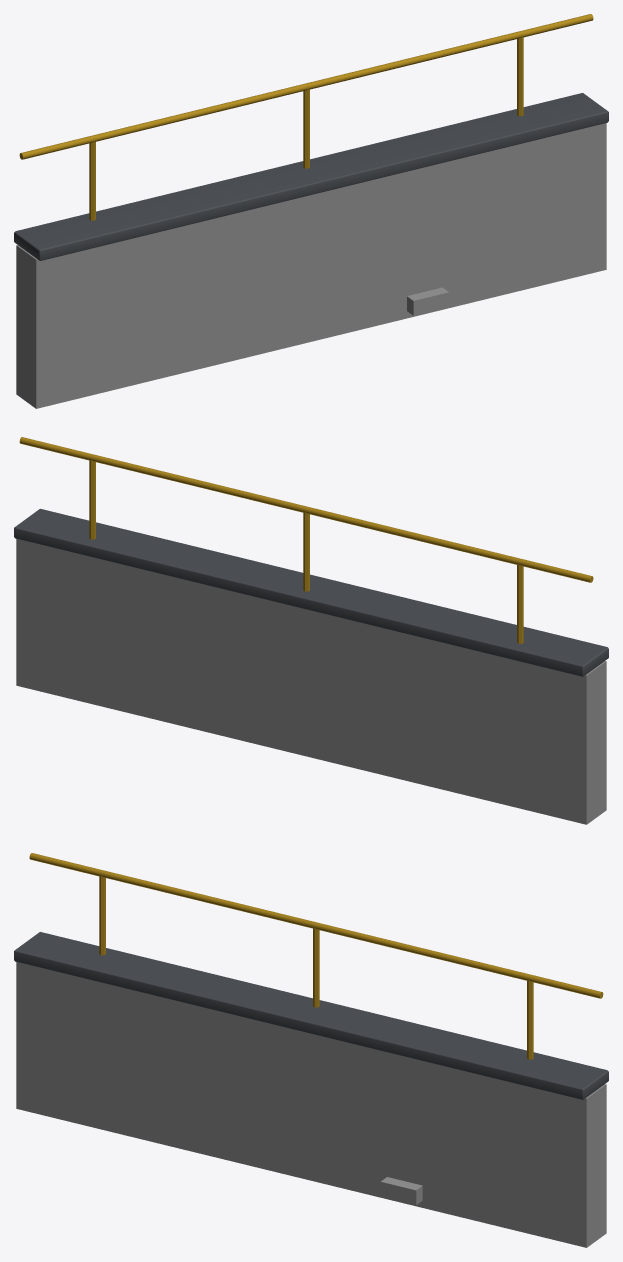
The model's file is Building_Parapet_Concrete_4m.fbx.
3 renders of one model, top to bottom at view 1: azimuth 30°, elevation 25°; view 2: azimuth 150°, elevation 25°; view 3: azimuth 330°, elevation 25°, orthographic.
Visible parts, largest first — view 1: Building_Parapet_Concrete_4m_LOD0; view 2: Building_Parapet_Concrete_4m_LOD0; view 3: Building_Parapet_Concrete_4m_LOD0.
Boxes of the visible parts, x1,y1,x2,y2 form: Building_Parapet_Concrete_4m_LOD0: (14, 14, 608, 408); Building_Parapet_Concrete_4m_LOD0: (14, 437, 608, 824); Building_Parapet_Concrete_4m_LOD0: (14, 853, 608, 1247).
Size of what is drawn, in the model's own units: 4 by 1.64 by 0.36.
